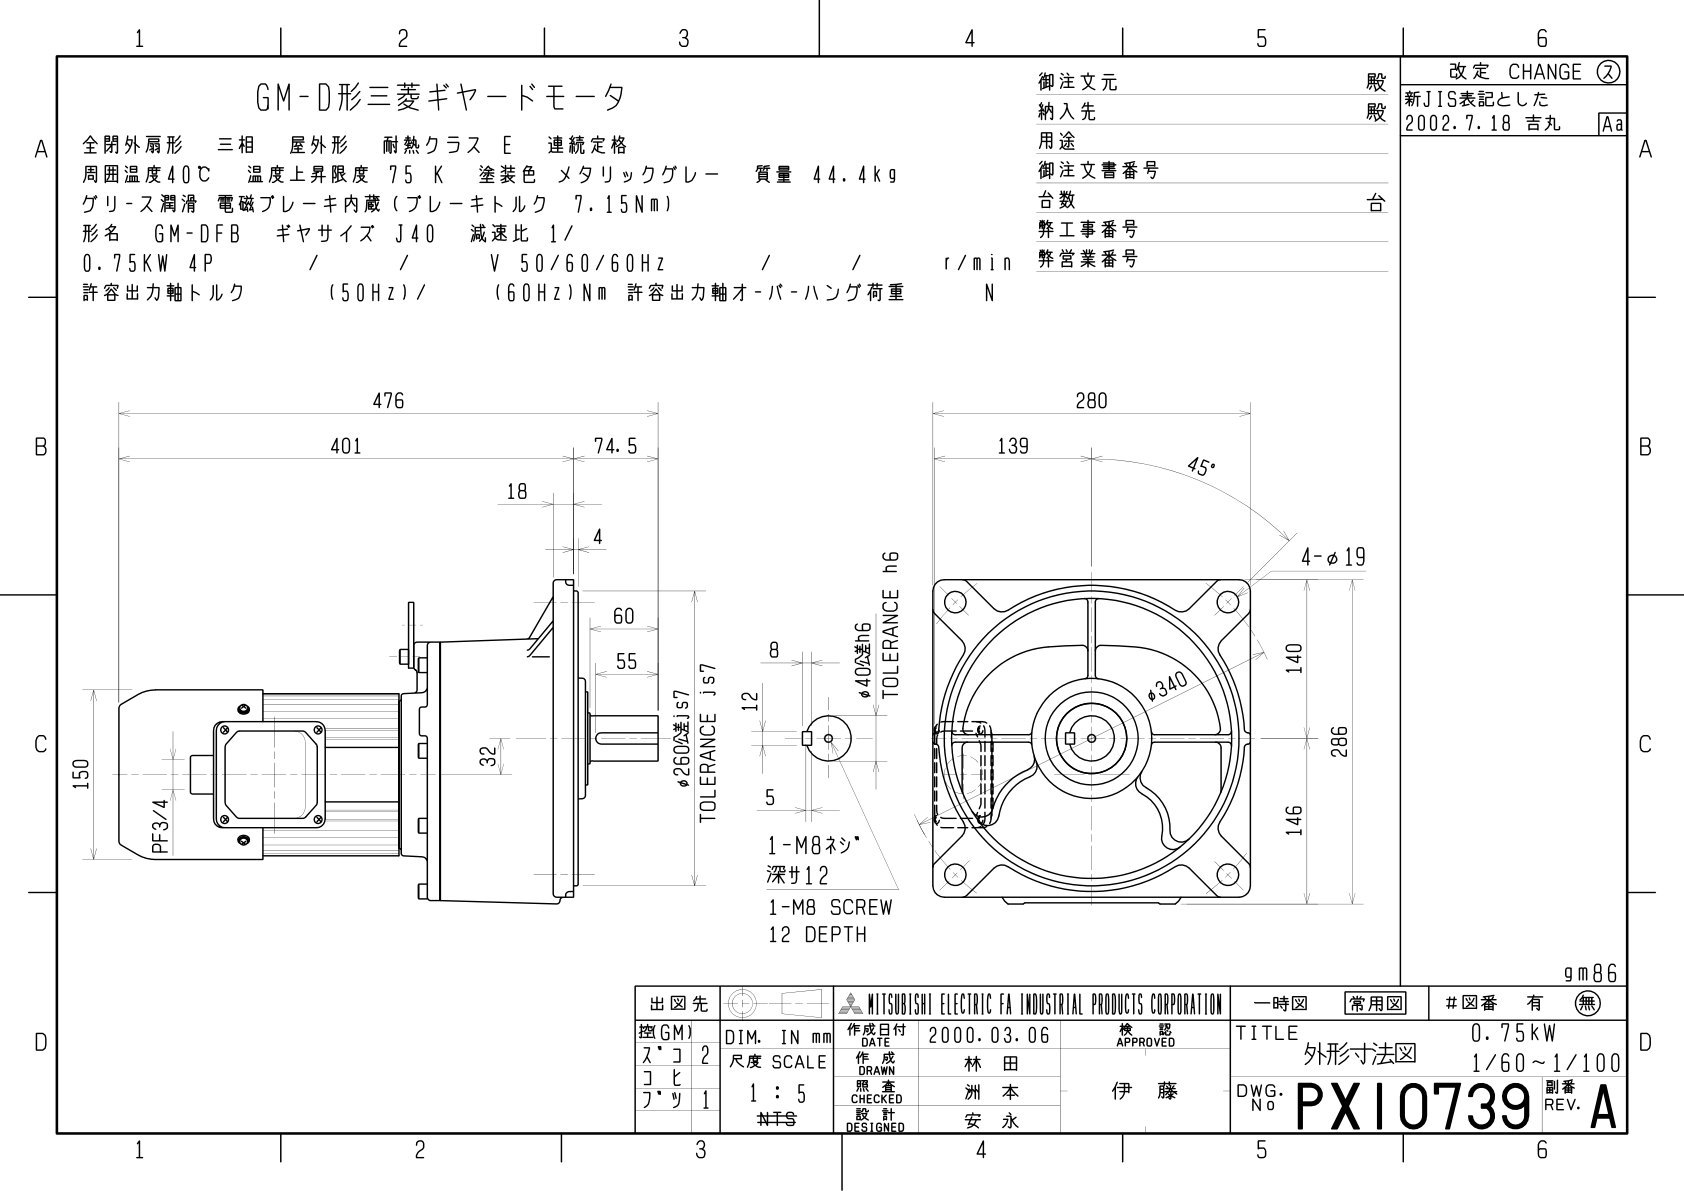GM_D_屋外＿三相_フランジ: (8, 4, 1684, 1191)
